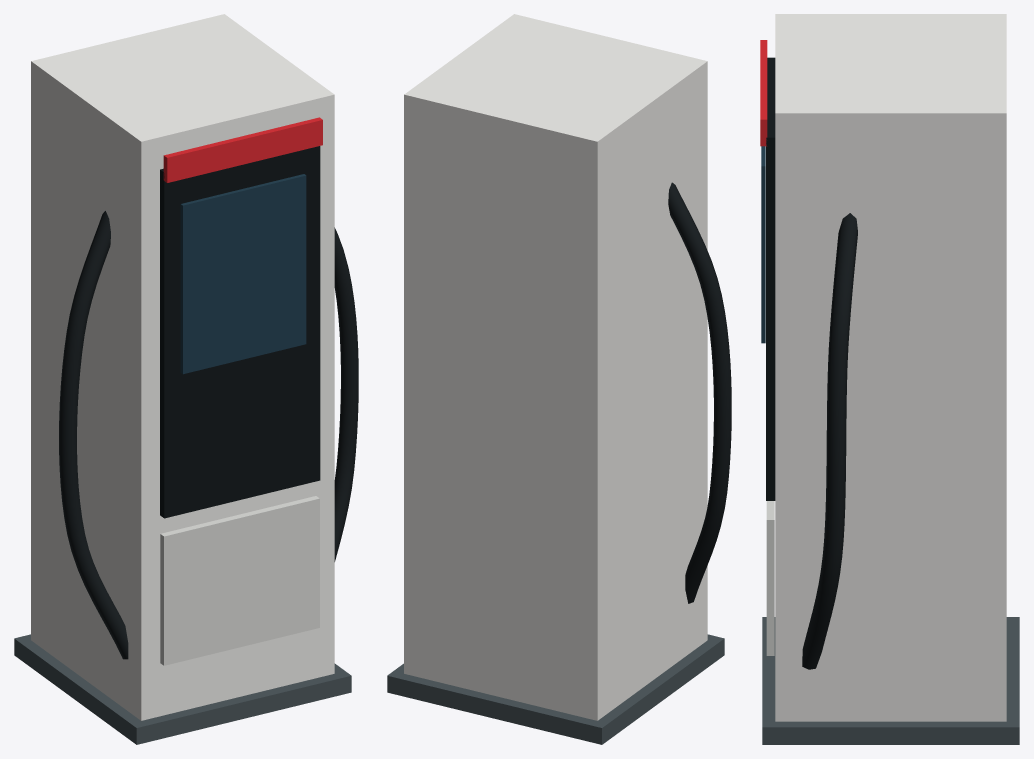
File: abb-terra-360.glb
The picture shows the model from 3 angles, left to right: view 1: azimuth 30°, elevation 25°; view 2: azimuth 150°, elevation 25°; view 3: azimuth 270°, elevation 25°; orthographic projection. The views are drawn at different scales.
Parts seen in each view (by area): view 1: Main cabinet, Front black glass, User display, Lower service door, Base, Left liquid-cooled cable, Right liquid-cooled cable, ABB red header; view 2: Main cabinet, Base, Left liquid-cooled cable; view 3: Main cabinet, Right liquid-cooled cable, Base, Front black glass, Lower service door, User display, ABB red header.
Boxes of the visible parts, left/top/right/bottom form: Main cabinet: left=31, top=14, right=334, bottom=720; Front black glass: left=160, top=146, right=320, bottom=518; User display: left=180, top=174, right=306, bottom=374; Lower service door: left=160, top=496, right=319, bottom=665; Base: left=14, top=634, right=351, bottom=744; Left liquid-cooled cable: left=59, top=211, right=128, bottom=659; Right liquid-cooled cable: left=334, top=227, right=358, bottom=561; ABB red header: left=163, top=117, right=322, bottom=182; Main cabinet: left=404, top=14, right=707, bottom=720; Base: left=387, top=634, right=724, bottom=744; Left liquid-cooled cable: left=668, top=182, right=731, bottom=603; Main cabinet: left=775, top=14, right=1006, bottom=721; Right liquid-cooled cable: left=802, top=213, right=857, bottom=669; Base: left=762, top=617, right=1019, bottom=744; Front black glass: left=766, top=57, right=775, bottom=500; Lower service door: left=766, top=501, right=774, bottom=655; User display: left=761, top=146, right=765, bottom=343; ABB red header: left=760, top=40, right=767, bottom=146.
Size of the model in its own units: 1.11 by 2.12 by 0.796.
